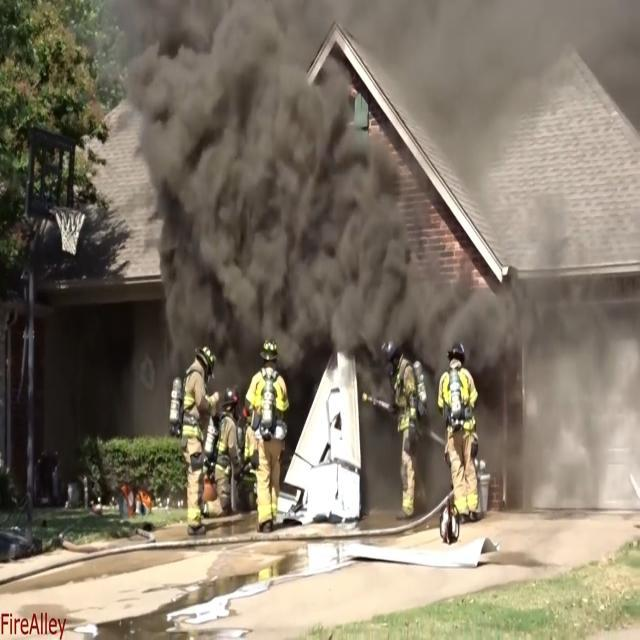Smoke: (138, 31, 455, 331)
